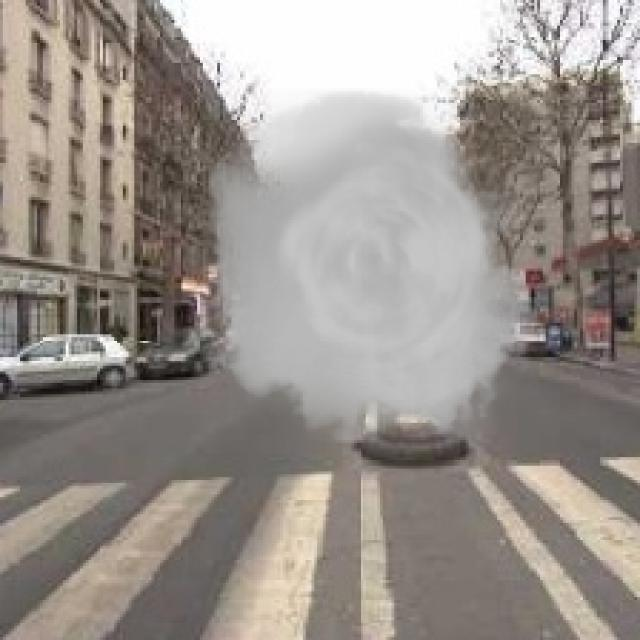Smoke: (188, 88, 548, 443)
